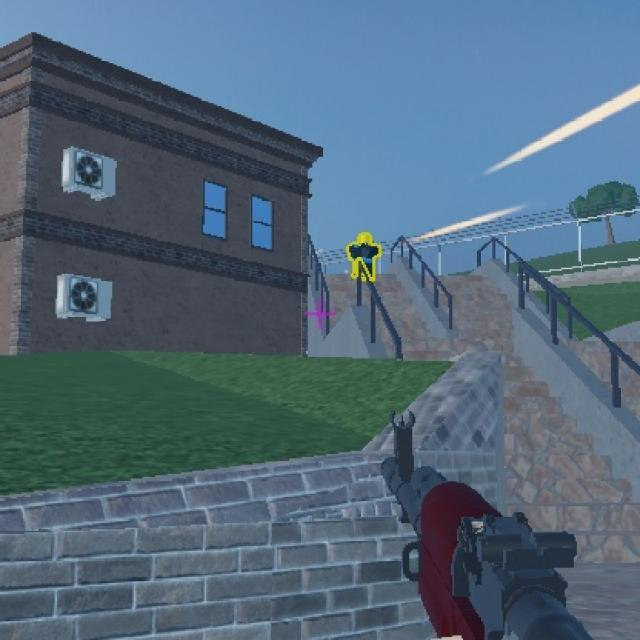player: (349, 230, 379, 280)
